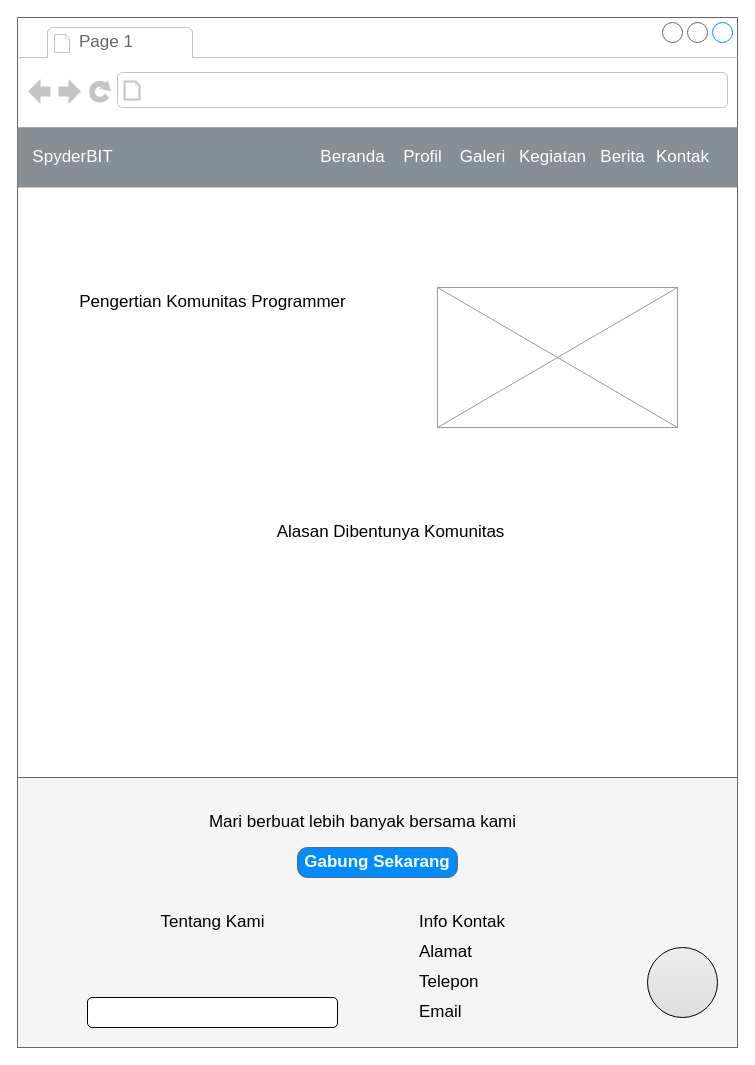
Some shapes in this 755 by 1065 pixel diagram are drawn without their labels. Here are the shapes that lost their labels. From the top down, the centre of each, then its label:
the point at 272,90: https://www.draw.io
the point at 212,1012: Sosial Media
